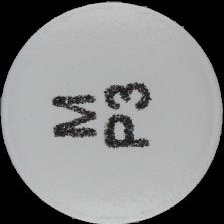54868-6178: (0, 0, 224, 224)
